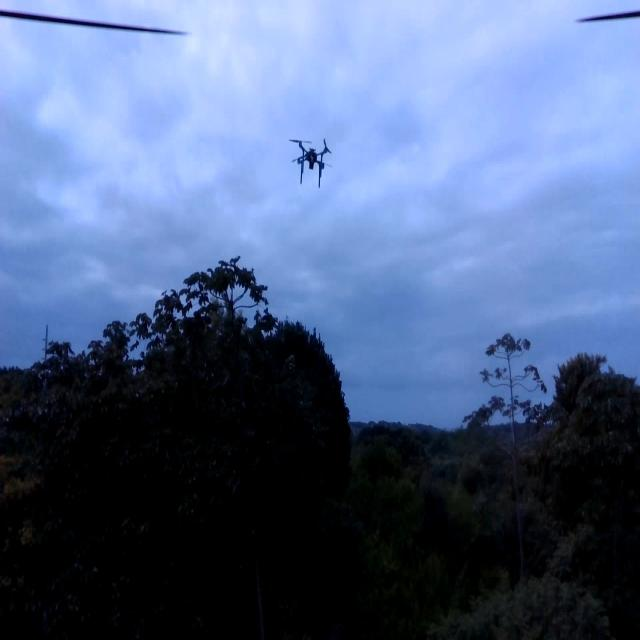-uav-: (285, 121, 338, 198)
